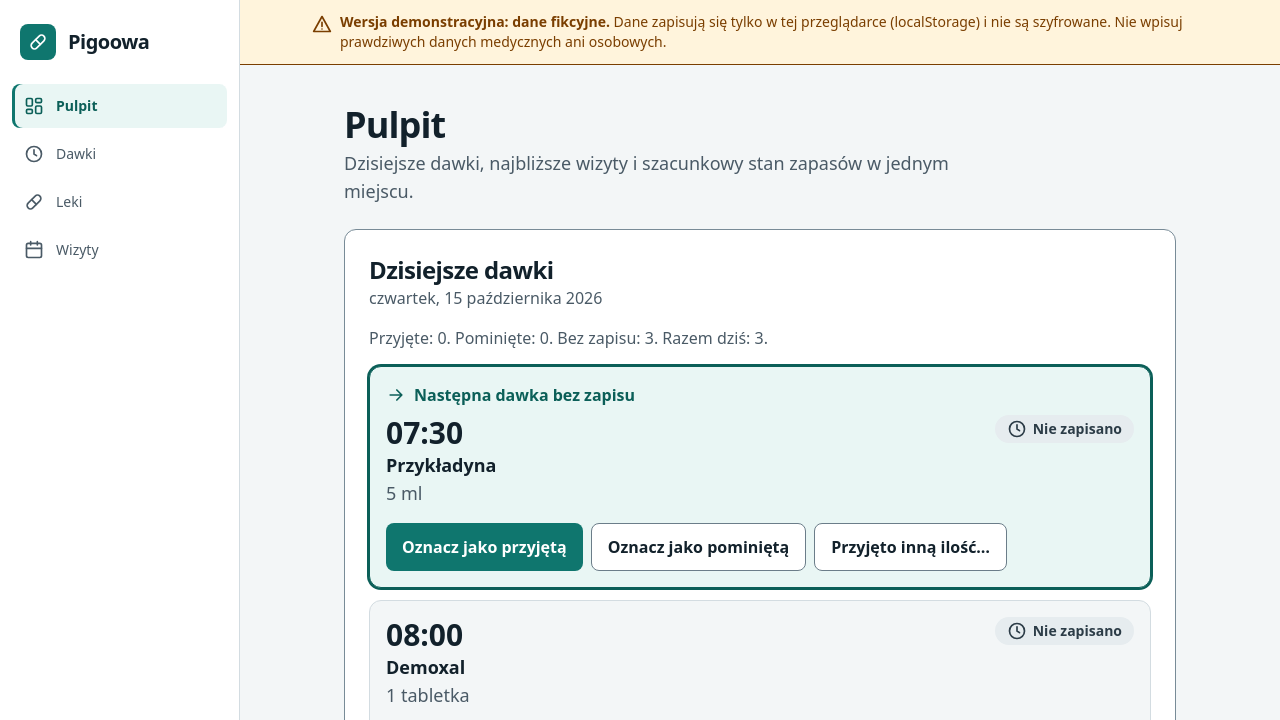
Test case: dashboard: the next dose without a record › moves to the next dose without a record after one is recorded, and is gone when all are
The image size is (1280, 720).
Click the button "Oznacz jako przyjętą": {"x": 484, "y": 547} left=386, top=523, right=583, bottom=571
(page scrolled)
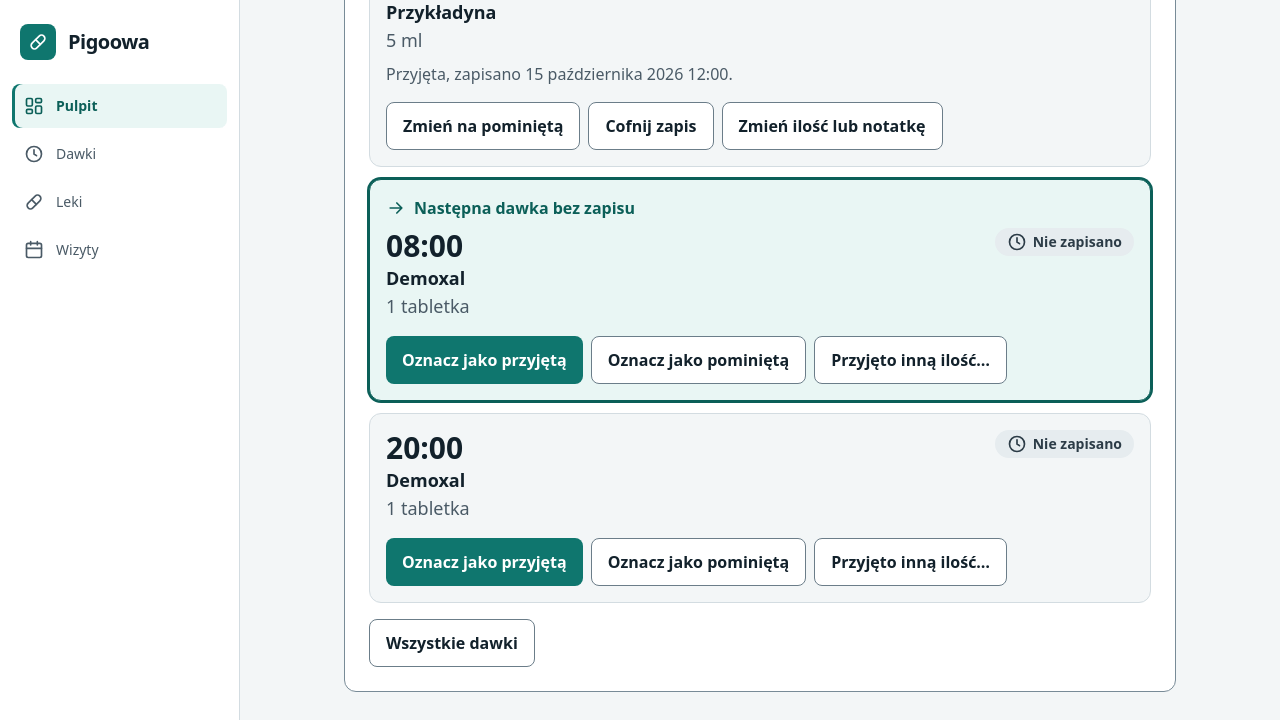
Check: the list item that starts with "Następna dawka bez zapisu" is shown, box left=414, top=197, right=635, bottom=219
Click the button with aria-label "Oznacz jako przyjętą: Demoxal, 08:00": {"x": 484, "y": 360} left=386, top=336, right=583, bottom=384
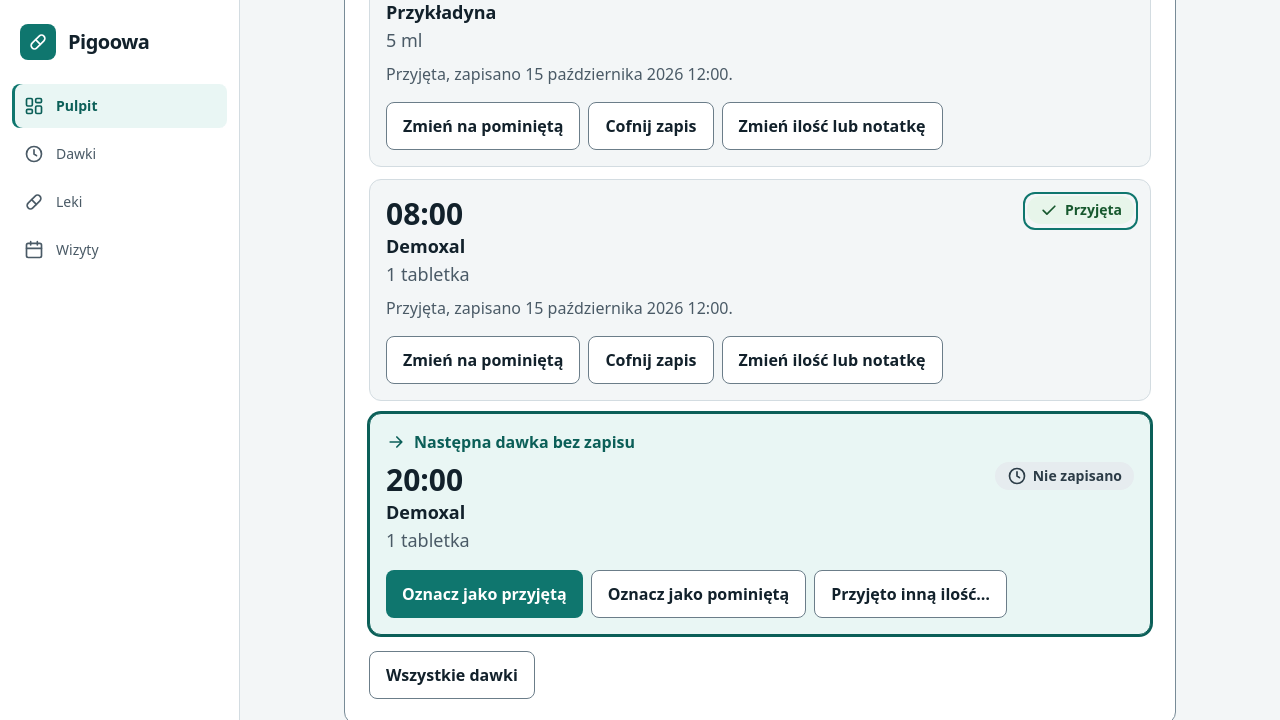
Check: the list item that starts with "Następna dawka bez zapisu" is shown, box left=414, top=431, right=635, bottom=453
Click the button with aria-label "Oznacz jako pominiętą: Demoxal, 20:00": {"x": 698, "y": 594} left=591, top=570, right=806, bottom=618
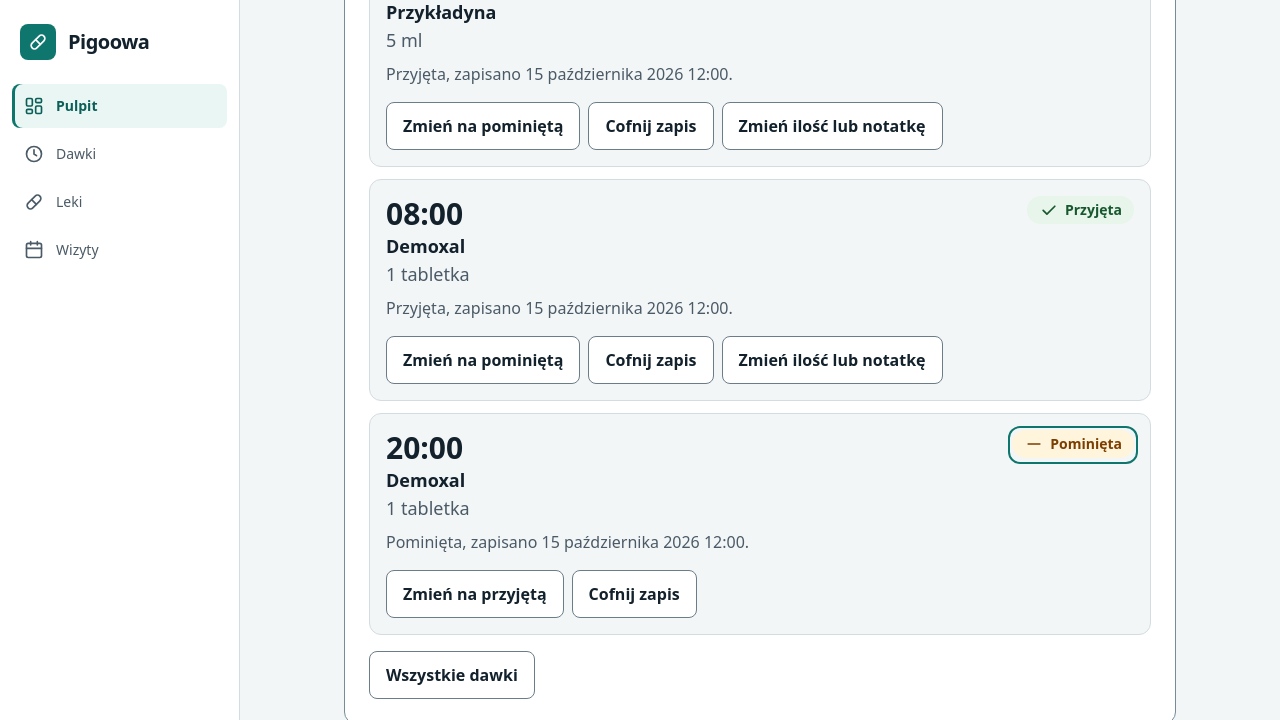
Check: the text "Następna dawka bez zapisu" is gone
